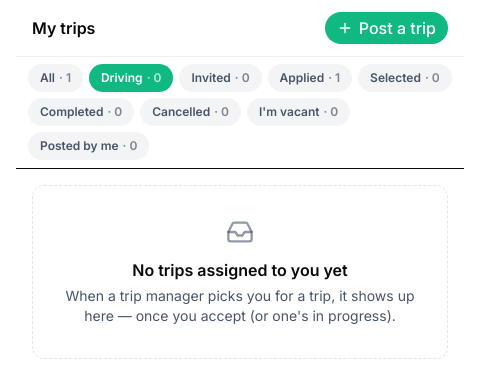
Test case: DriverActivityPage › renders an applied row without crashing when the trip carries an unrecognised status (Sentry regression)
Click the button "Applied · 1". click: (310, 78)
box: [268, 64, 352, 92]
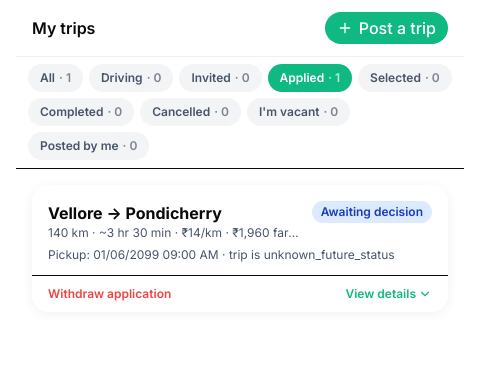
Check: the text "Vellore → Pondicherry" is shown, box [48, 203, 222, 223]
Check: the text "Pickup: 01/06/2099 09:00 AM · trip is unknown_future_status" is shown, box [48, 247, 432, 263]
